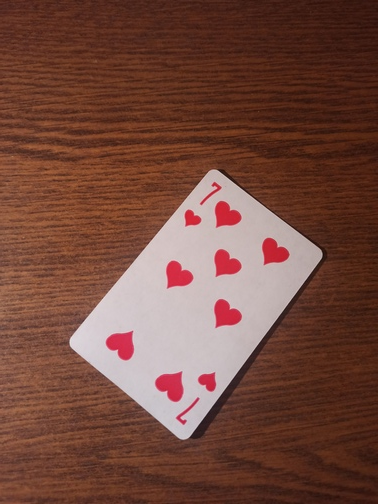sevenhearts: (67, 167, 327, 450)
